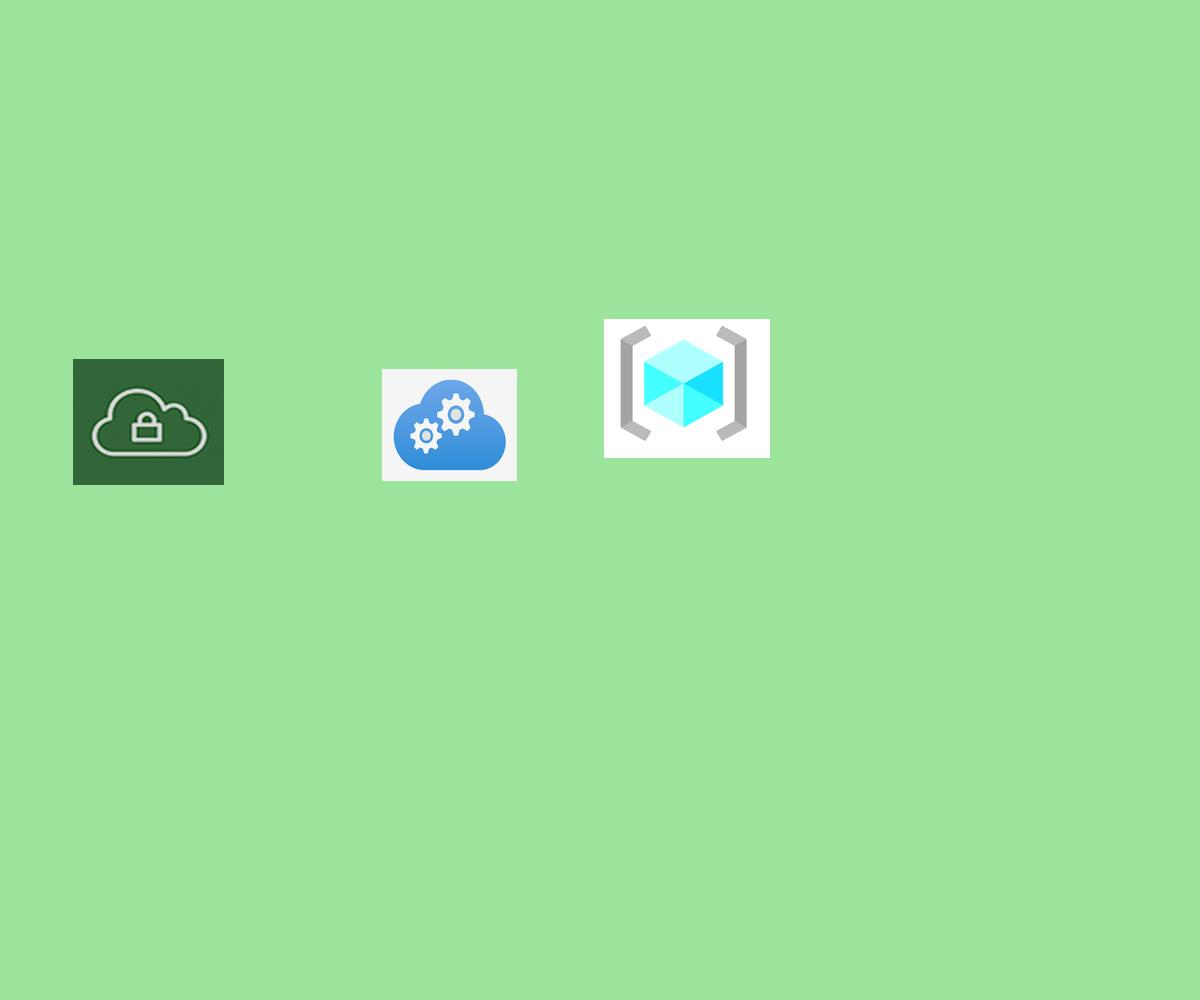AWS-Private_vpc: (73, 359, 224, 485)
Azure_cloud_services: (382, 369, 517, 481)
Azure_resource_group: (604, 319, 770, 458)
